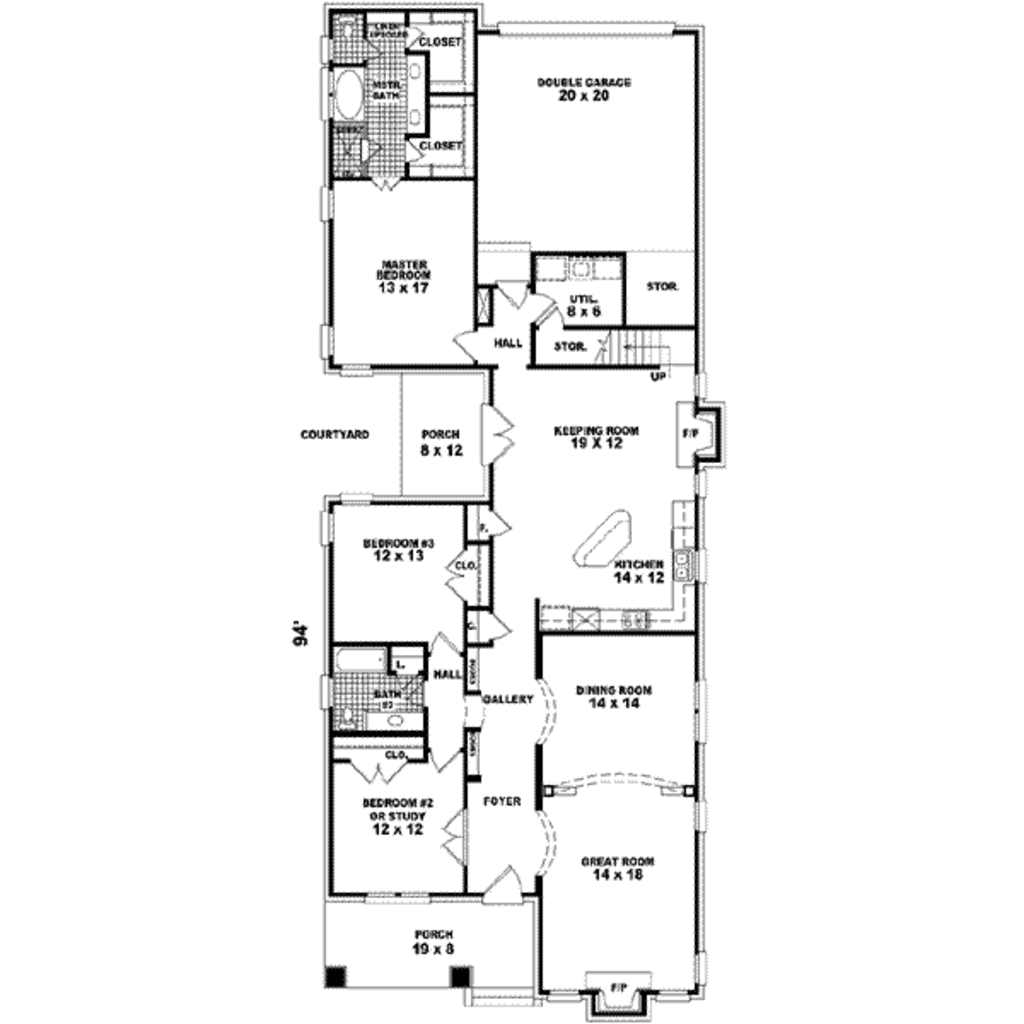door: (468, 400, 519, 470), (467, 863, 524, 906), (438, 543, 478, 603), (437, 801, 468, 868), (422, 739, 470, 779), (495, 268, 537, 309), (354, 755, 410, 785), (529, 297, 567, 336), (479, 605, 513, 647), (449, 328, 483, 368), (421, 633, 460, 665), (479, 509, 516, 538), (370, 162, 403, 189), (530, 287, 552, 308)
large_sink: (337, 700, 362, 730)
small_sink: (405, 47, 435, 136), (368, 695, 430, 732)
stairs: (579, 324, 694, 381)
tub: (322, 641, 392, 676), (335, 66, 365, 120)
twin_sink: (672, 551, 695, 585)
window: (495, 14, 694, 54), (357, 885, 441, 909), (306, 316, 345, 363), (318, 508, 340, 555), (319, 182, 340, 230), (332, 358, 375, 381), (333, 492, 378, 512)
